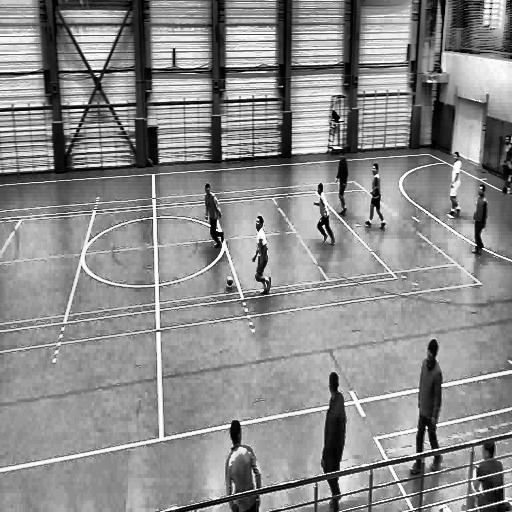ball: (226, 274, 235, 289)
player: (407, 332, 445, 475), (319, 365, 345, 512), (222, 416, 260, 512), (250, 212, 273, 298), (200, 176, 226, 251), (312, 180, 336, 250), (365, 160, 387, 234), (447, 150, 463, 222), (334, 148, 349, 219), (473, 184, 487, 258), (500, 135, 512, 195)
